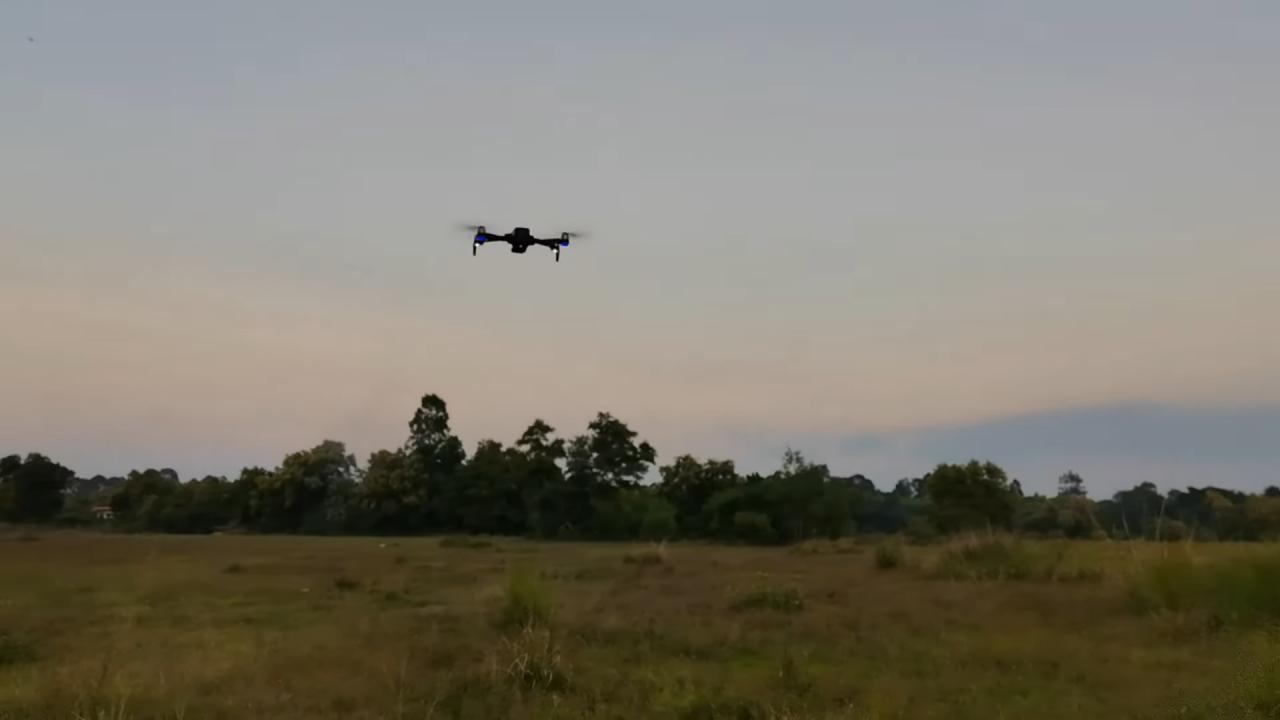Drone: (452, 214, 596, 270)
